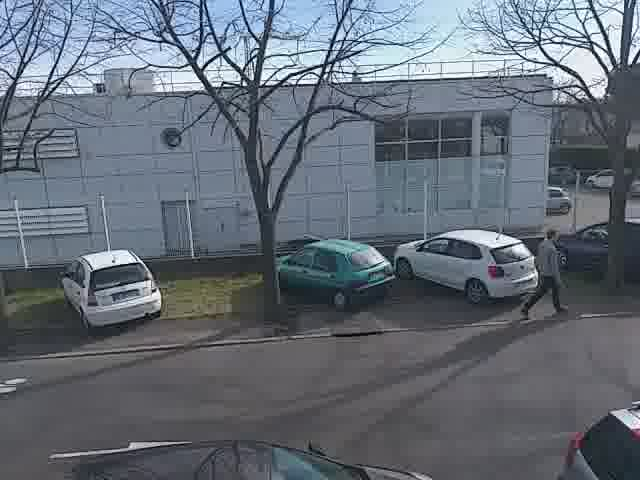persona: (516, 226, 573, 320)
